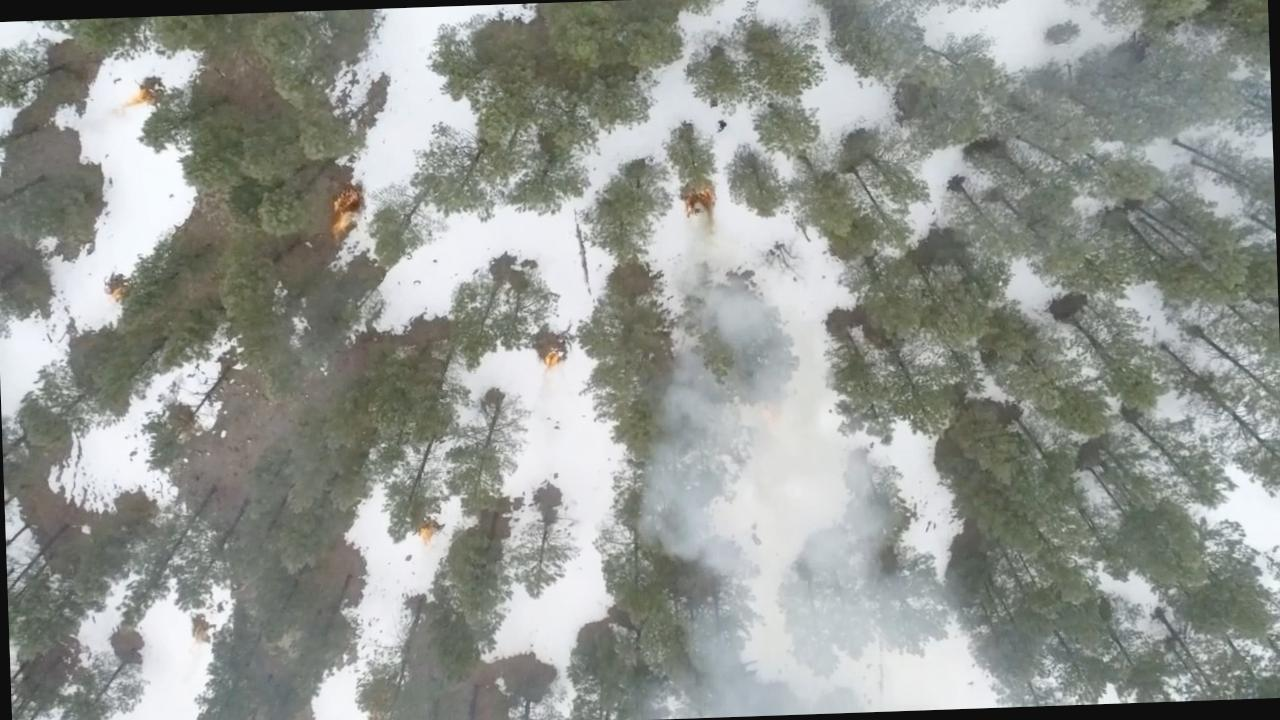fire: (324, 191, 366, 246), (680, 185, 724, 234), (540, 346, 572, 382), (413, 526, 443, 551)
smoke: (638, 474, 988, 720), (646, 296, 856, 483)
